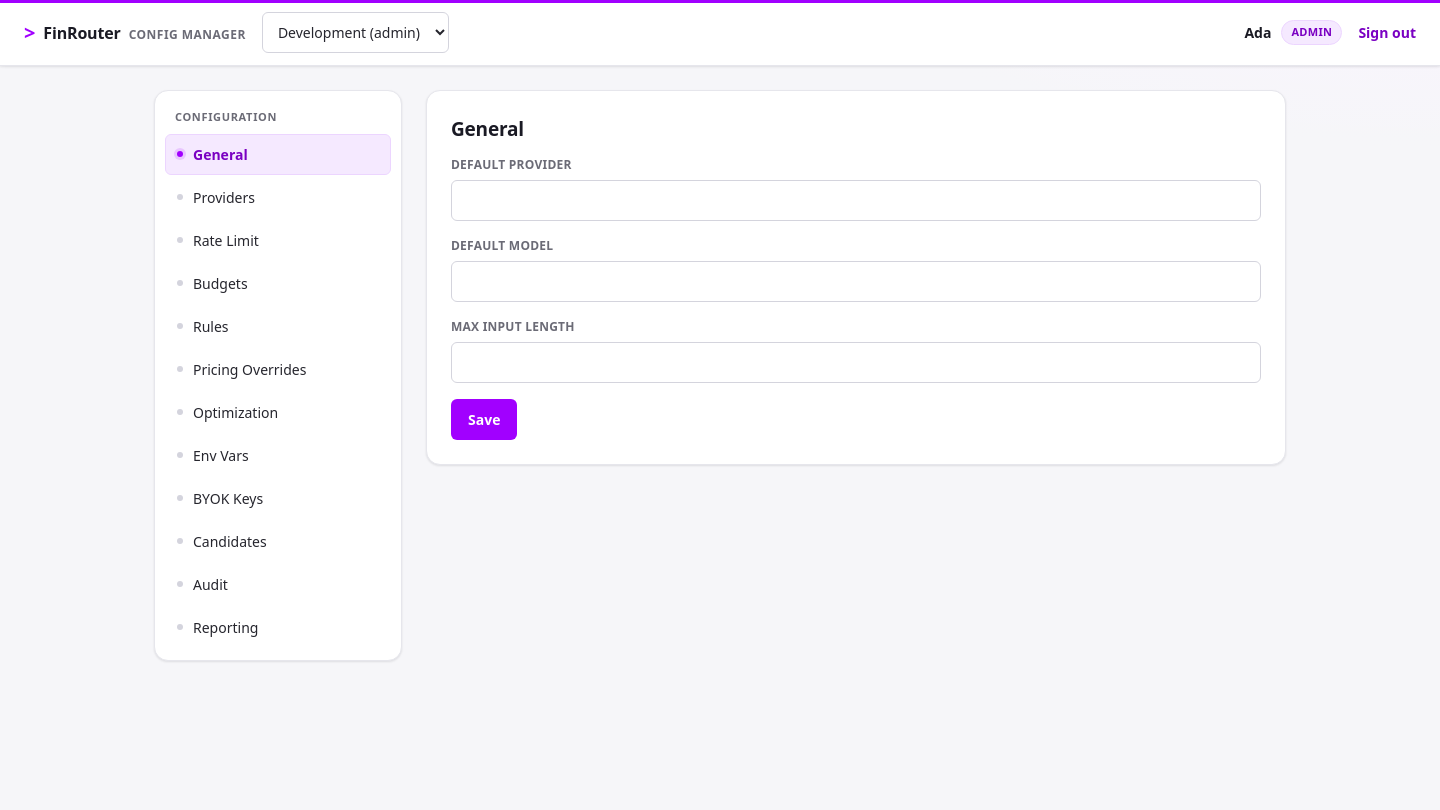
Test: shows all section nav items and switches to Rate Limit
Expected: the link "General" is shown, [165, 134, 391, 174]
Expected: the link "Providers" is shown, [193, 188, 255, 206]
Click the link "Rate Limit": [226, 240] box [193, 230, 259, 250]
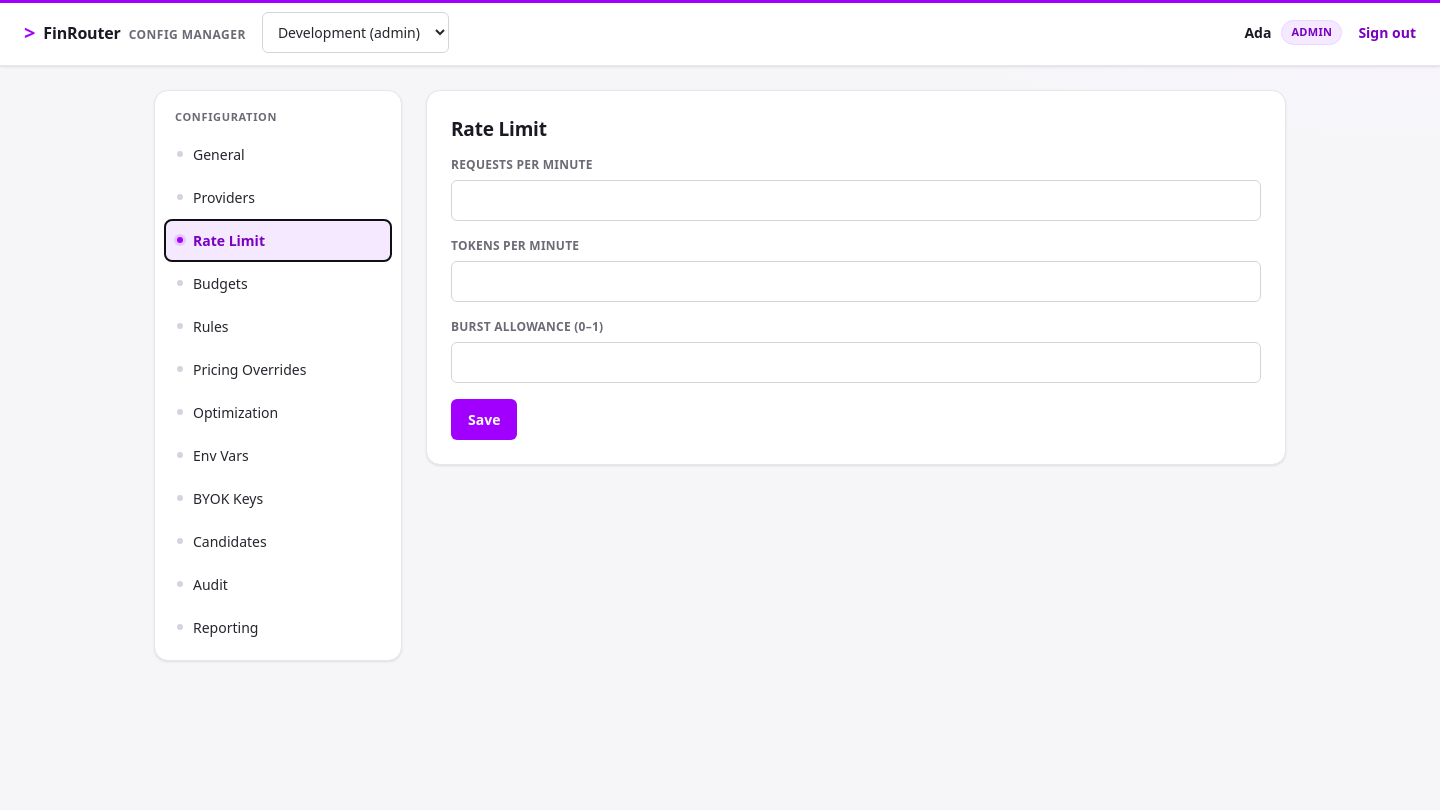
Now the heading "Rate Limit" is shown, box [451, 116, 547, 142]
